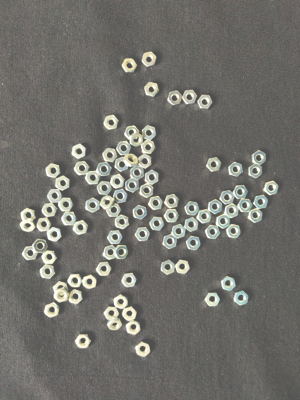nut: (44, 302, 60, 319), (135, 342, 151, 358), (233, 291, 250, 306), (32, 239, 49, 254), (76, 334, 92, 349), (104, 306, 120, 321), (161, 260, 176, 276), (122, 273, 138, 288), (54, 288, 70, 303), (67, 274, 83, 289), (40, 265, 56, 280), (97, 262, 113, 277), (107, 230, 123, 245), (163, 234, 178, 250), (172, 224, 187, 240), (185, 217, 200, 233), (205, 225, 221, 240), (226, 224, 242, 239), (216, 214, 231, 230), (219, 190, 235, 205), (248, 208, 263, 224), (206, 157, 222, 172), (73, 220, 89, 235), (42, 203, 58, 218), (113, 189, 129, 204), (46, 163, 61, 179), (74, 161, 90, 176), (102, 148, 118, 163), (141, 140, 157, 155), (104, 115, 120, 130), (142, 52, 157, 68), (22, 247, 39, 261), (106, 204, 123, 218), (221, 276, 236, 291), (114, 295, 129, 310), (83, 275, 98, 290), (186, 236, 201, 251), (47, 228, 62, 243), (165, 194, 180, 209), (208, 200, 223, 215), (225, 204, 240, 219), (254, 195, 269, 210), (265, 181, 280, 196), (229, 162, 244, 177), (115, 215, 130, 230), (133, 205, 148, 220), (149, 196, 164, 211), (37, 218, 52, 233), (110, 174, 125, 189), (56, 176, 71, 191), (97, 162, 112, 177), (72, 144, 87, 159), (114, 157, 129, 172), (117, 141, 132, 156), (198, 95, 213, 110), (183, 90, 198, 105), (168, 91, 183, 106), (205, 293, 221, 307), (41, 251, 57, 265), (135, 228, 151, 242), (164, 209, 180, 223), (237, 199, 253, 213), (233, 185, 249, 199), (20, 218, 36, 232), (62, 212, 78, 226), (58, 198, 74, 212), (47, 189, 63, 203), (86, 198, 100, 214), (85, 171, 101, 185), (124, 126, 140, 140), (145, 82, 159, 98), (123, 307, 137, 322), (176, 260, 190, 275), (69, 290, 83, 305), (53, 282, 68, 296), (114, 246, 129, 260), (185, 202, 200, 216), (197, 210, 212, 224), (249, 164, 263, 179), (252, 151, 267, 165), (150, 217, 165, 231), (100, 196, 115, 210), (140, 183, 154, 198), (126, 178, 140, 193), (131, 166, 145, 181), (97, 181, 112, 195), (138, 154, 152, 169), (124, 154, 139, 168), (130, 133, 144, 148), (143, 126, 157, 141), (122, 59, 137, 73), (104, 245, 117, 261), (127, 321, 141, 335), (108, 318, 123, 331), (21, 208, 36, 221), (146, 170, 159, 185)
